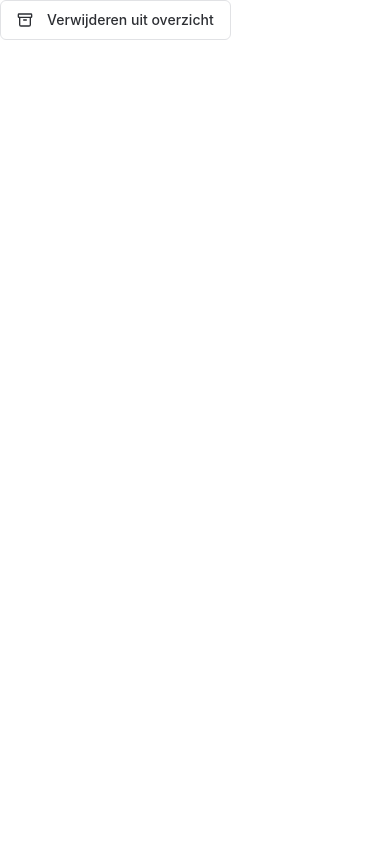
Test case: ArchiveProjectAction › annuleren roept niets aan
Later steps or results of the test are not shown.
Click the button "Verwijderen uit overzicht".
click(115, 20)  # box [0,0,231,40]
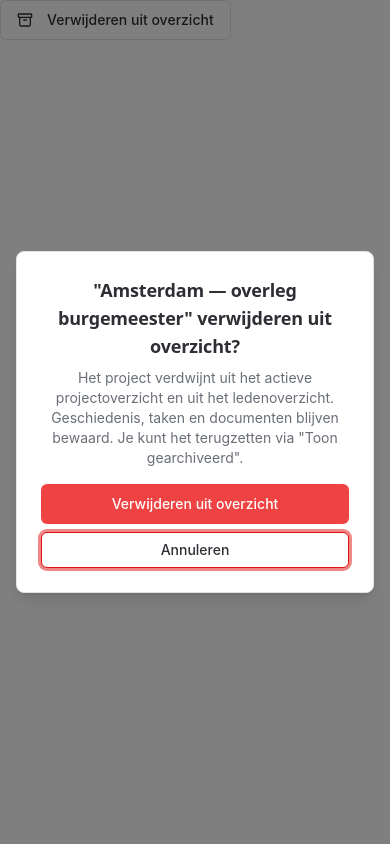
expect the heading "\"Amsterdam — overleg burgemeester\" verwijderen uit overzicht?" is shown: met, box [41,276,349,360]
